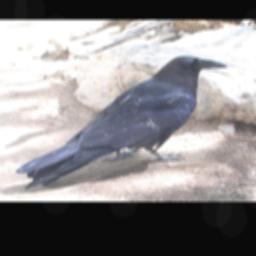Crow: (17, 54, 230, 191)
